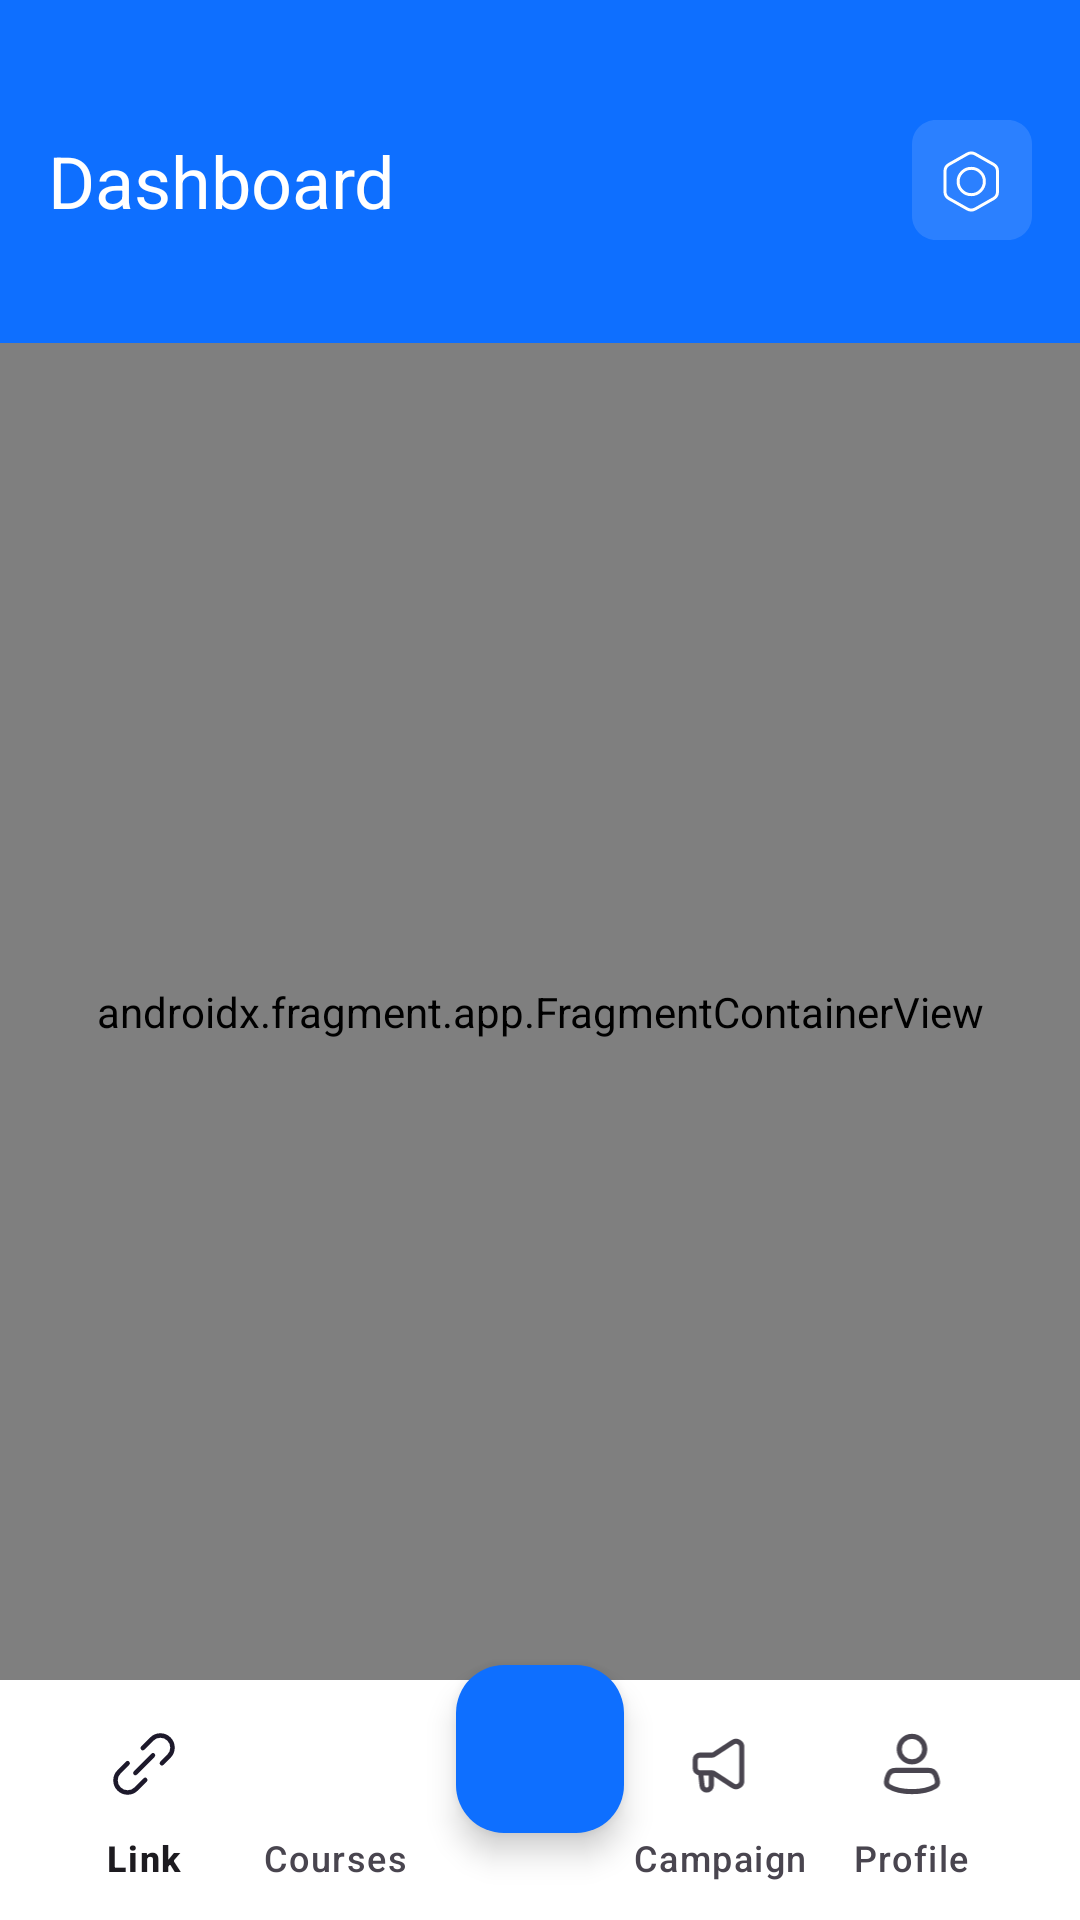

Where icons sit on this 1080×1920 app screen, as box(x1, y1, x2, y2):
settings: box(912, 120, 1032, 240)
